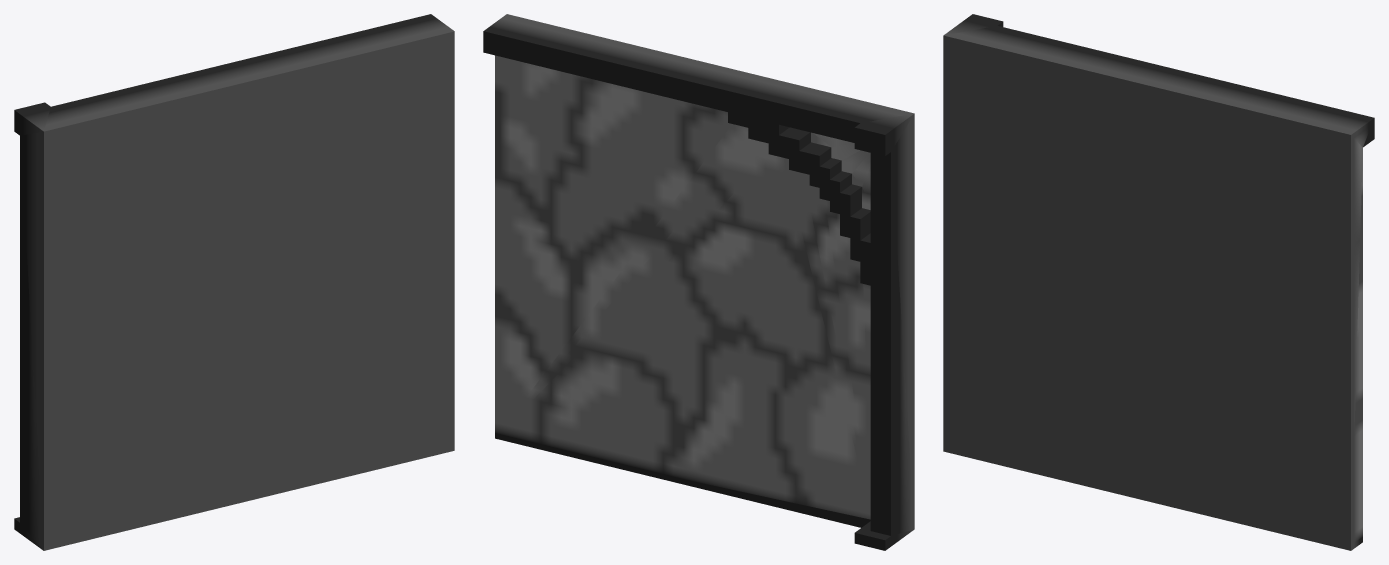
The model's file is WallDefault_EL.fbx.
3 views of the same model, side by side, from view 1: azimuth 30°, elevation 25°; view 2: azimuth 150°, elevation 25°; view 3: azimuth 330°, elevation 25° (orthographic).
Visible parts, largest first — view 1: WallDefault_EL.Merged; view 2: WallDefault_EL.Merged; view 3: WallDefault_EL.Merged.
Part boxes in pixels (x1,y1,x2,y2): WallDefault_EL.Merged: (14, 14, 454, 550); WallDefault_EL.Merged: (483, 14, 914, 550); WallDefault_EL.Merged: (943, 14, 1374, 550).
Bounding box in the file's own units: 8000 × 7800 × 1000.
